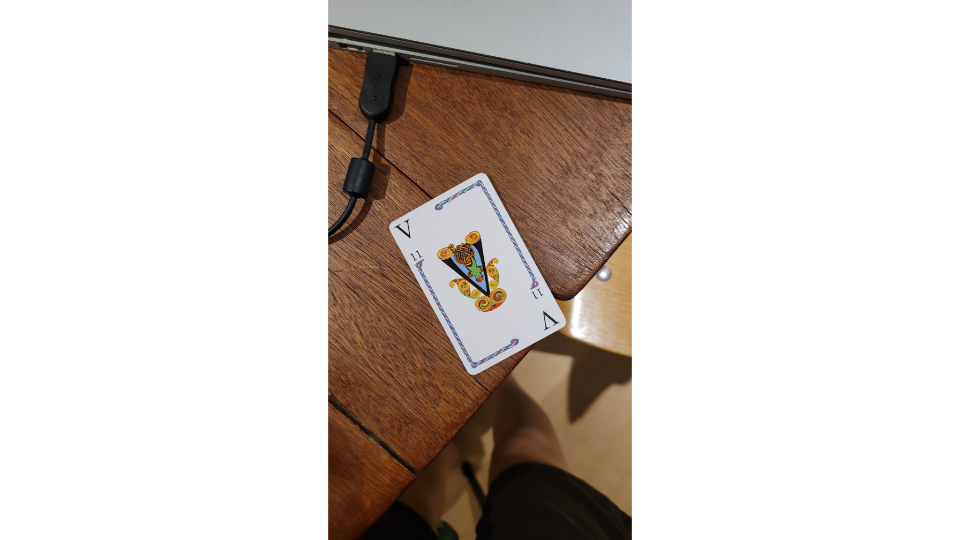V: (384, 169, 571, 378)
